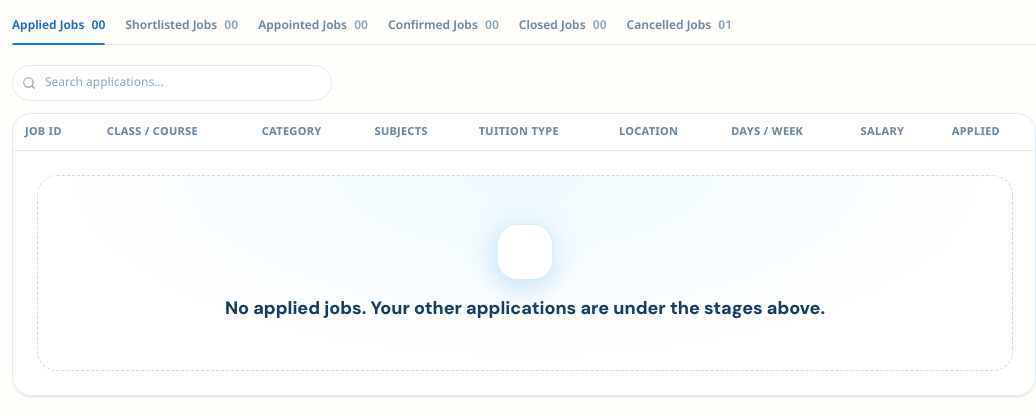
Test: the Tutor's Status tab › falls back to the tuition's own cancellation date when the application itself never ended
This screenshot has width=1036, height=414.
Click the tab "Cancelled Jobs 01".
click(679, 28)  # box [627,12,732,44]
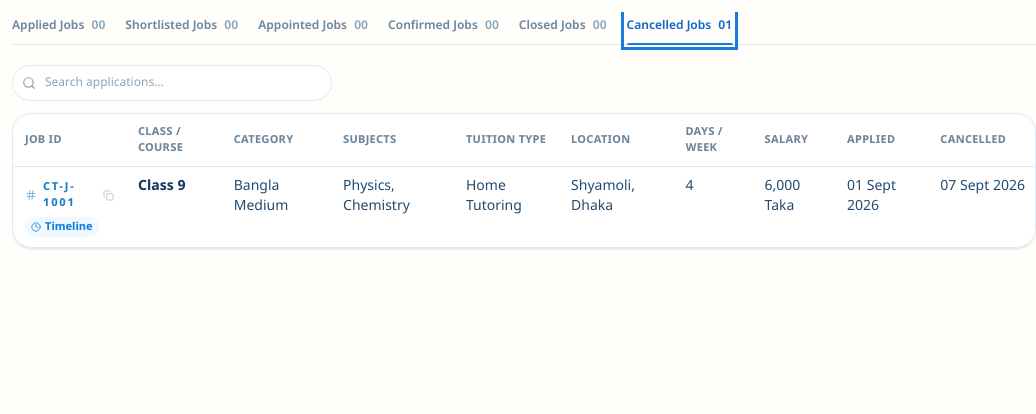
expect the text "07 Sept 2026" is shown: met, box [940,177,1025,196]
